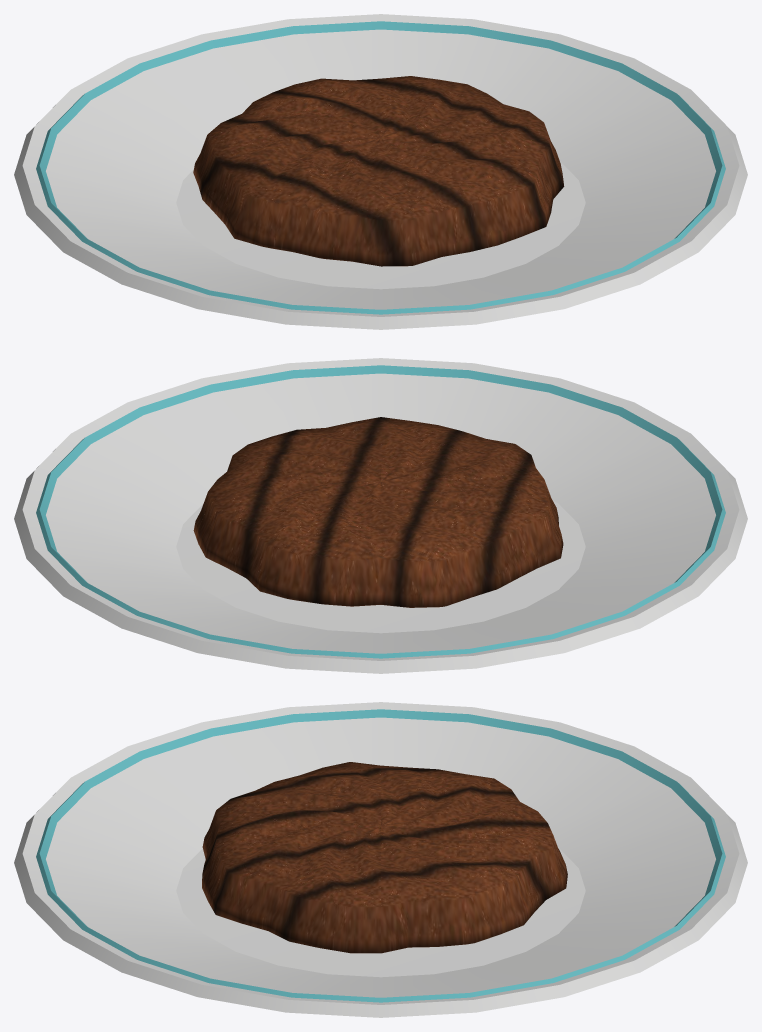
The model's file is kr_dish_patty.glb.
3 renders of one model, top to bottom at view 1: azimuth 30°, elevation 25°; view 2: azimuth 150°, elevation 25°; view 3: azimuth 270°, elevation 25°, orthographic.
Parts seen in each view (by area): view 1: vc_m0_r2, kr_dish_patty_f_ground_cooked, vc_m0_r4; view 2: vc_m0_r2, kr_dish_patty_f_ground_cooked, vc_m0_r4; view 3: vc_m0_r2, kr_dish_patty_f_ground_cooked, vc_m0_r4.
Boxes of the visible parts, <box> form: vc_m0_r2: <box>14,14,747,329</box>; kr_dish_patty_f_ground_cooked: <box>193,76,564,266</box>; vc_m0_r4: <box>36,21,725,314</box>; vc_m0_r2: <box>14,358,747,673</box>; kr_dish_patty_f_ground_cooked: <box>193,417,563,607</box>; vc_m0_r4: <box>36,365,725,658</box>; vc_m0_r2: <box>14,702,747,1017</box>; kr_dish_patty_f_ground_cooked: <box>202,762,567,953</box>; vc_m0_r4: <box>36,709,725,1002</box>.
Size of the model in its own units: 0.43 by 0.0618 by 0.43.
Materials: 3 (1 with a texture image).
